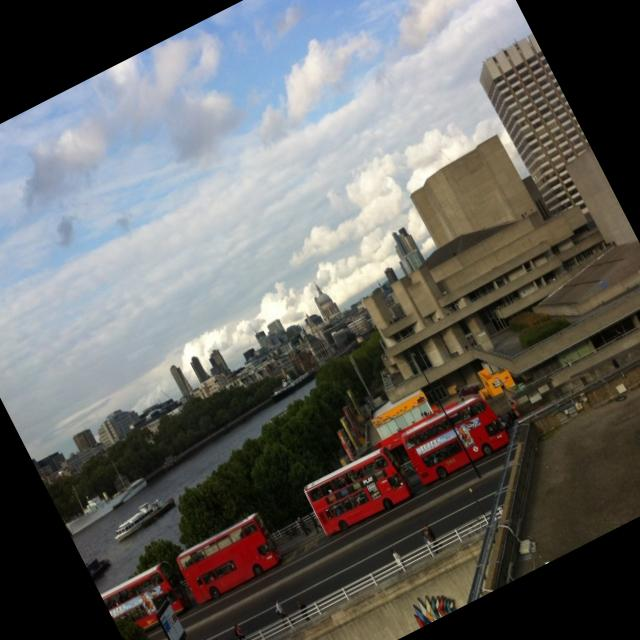bus: (298, 439, 418, 540), (396, 386, 512, 487), (173, 511, 285, 605), (100, 558, 194, 640)
